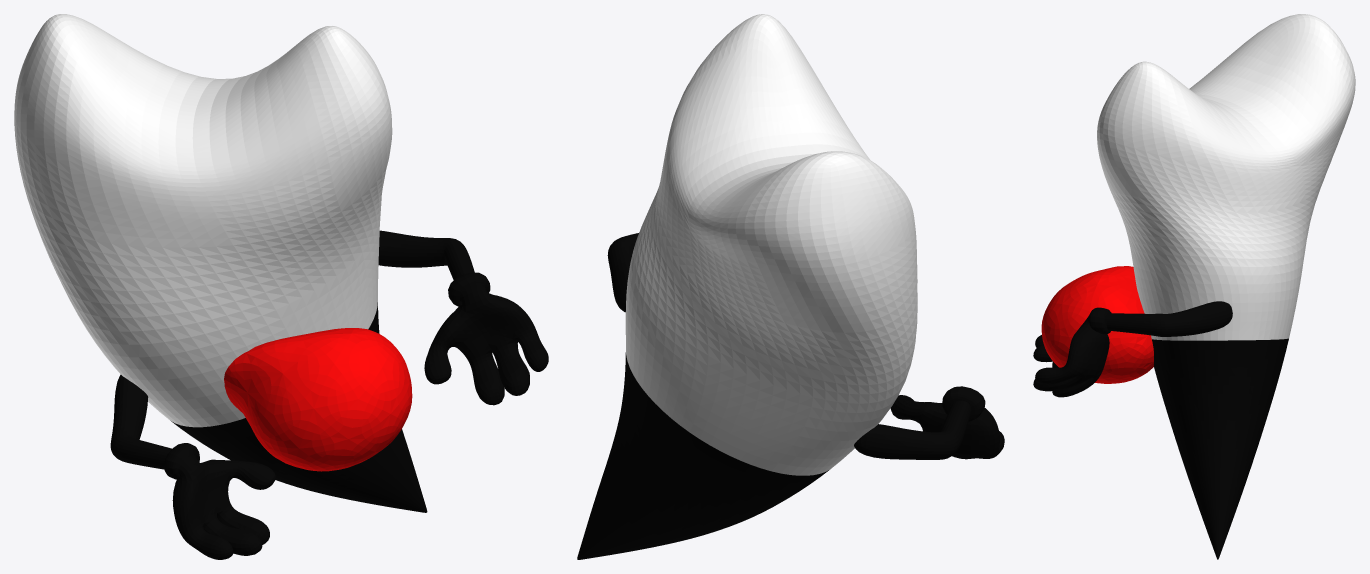
The model's file is java-dukezombie08.obj.
3 renders of one model, left to right at view 1: azimuth 30°, elevation 25°; view 2: azimuth 150°, elevation 25°; view 3: azimuth 270°, elevation 25°, orthographic. The views are drawn at different scales.
Visible parts, largest first — view 1: javadude, javadude_hands, javadude_nase; view 2: javadude, javadude_hands; view 3: javadude, javadude_nase, javadude_hands.
Boxes of the visible parts, bbox=[...] form: javadude: bbox=[14, 14, 427, 512]; javadude_hands: bbox=[110, 230, 548, 559]; javadude_nase: bbox=[224, 328, 412, 471]; javadude: bbox=[577, 14, 917, 559]; javadude_hands: bbox=[607, 233, 1004, 459]; javadude: bbox=[1097, 14, 1355, 559]; javadude_nase: bbox=[1041, 266, 1153, 383]; javadude_hands: bbox=[1033, 301, 1232, 397].
Size of the model in its own units: 2.62 by 3.67 by 2.43.
